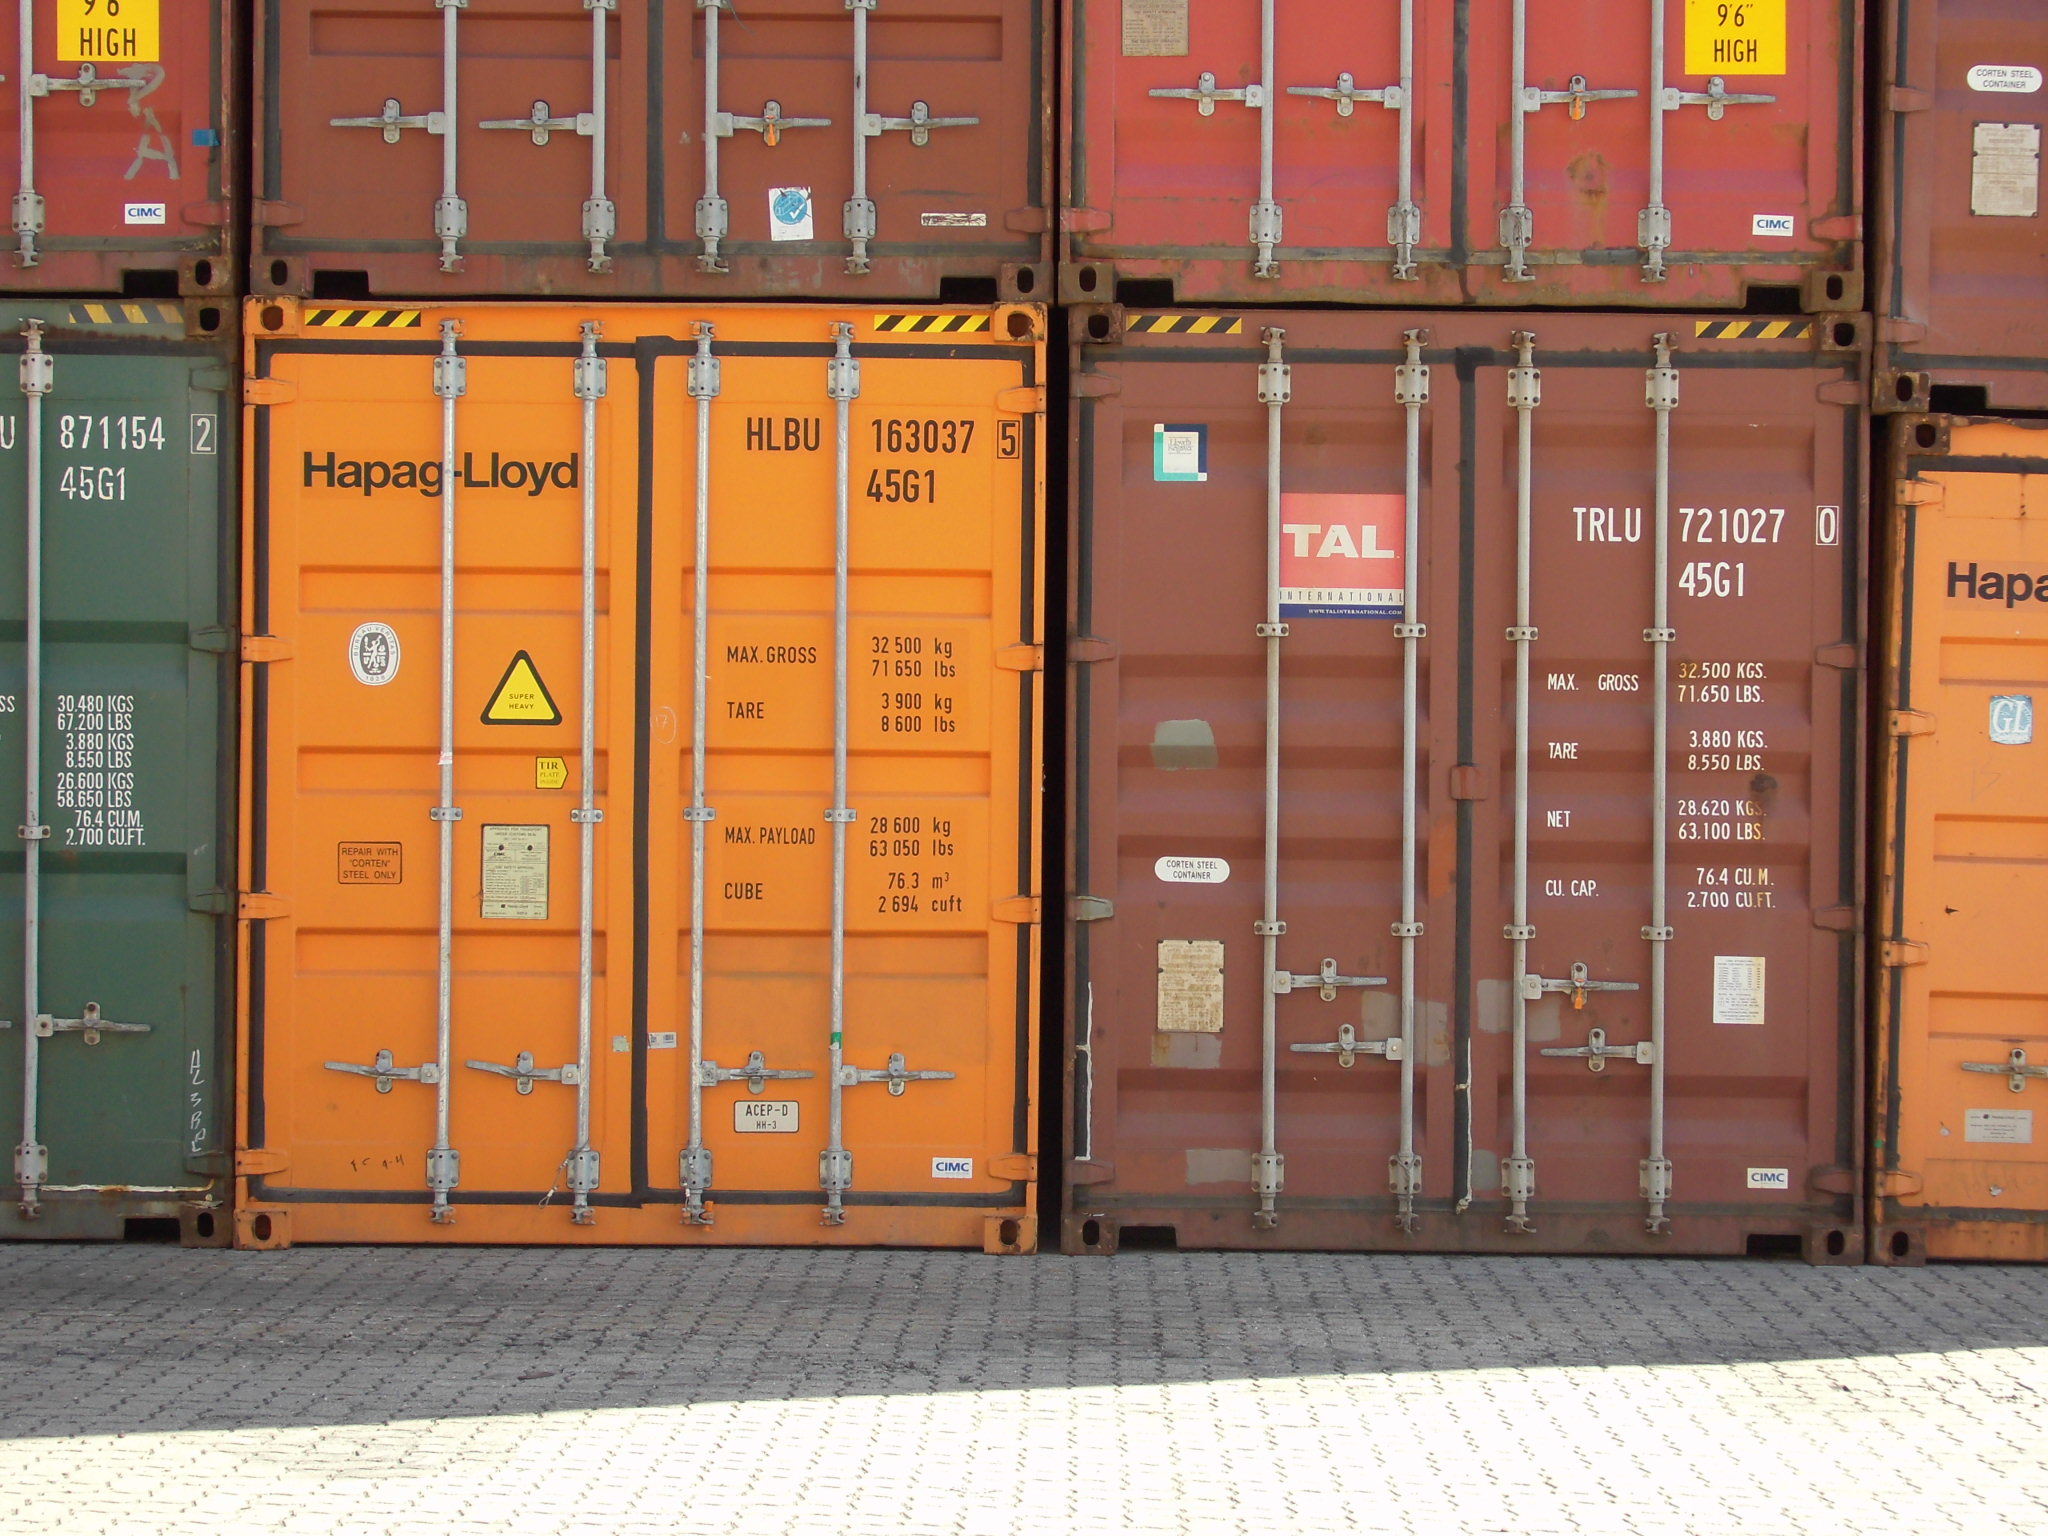container_door: (248, 297, 1047, 1246), (1072, 315, 1871, 1262)
